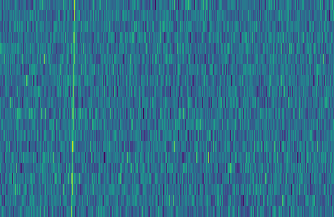signal: (65, 0, 77, 217)
